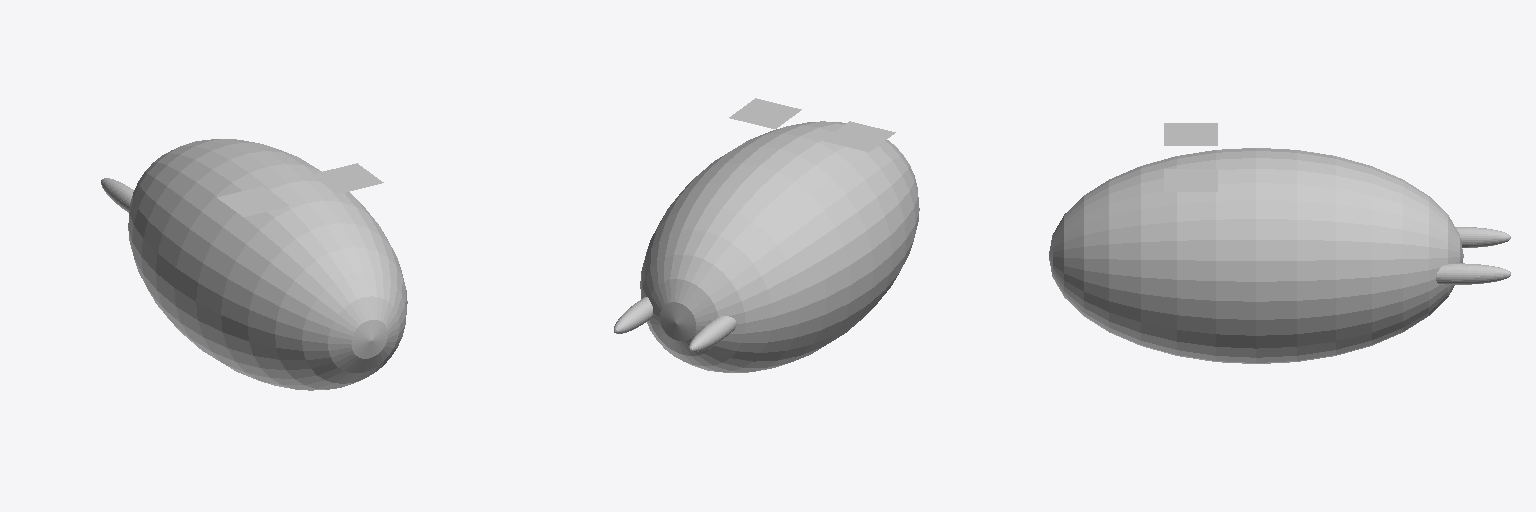
The model's file is unit.obj.
3 views of the same model, side by side, from view 1: azimuth 30°, elevation 25°; view 2: azimuth 150°, elevation 25°; view 3: azimuth 270°, elevation 25° (orthographic).
Visible parts, largest first — view 1: Unit_Sphere; view 2: Unit_Sphere; view 3: Unit_Sphere.
Boxes of the visible parts, x1=… form: Unit_Sphere: x1=101, y1=139, x2=407, y2=390; Unit_Sphere: x1=614, y1=98, x2=919, y2=372; Unit_Sphere: x1=1049, y1=123, x2=1510, y2=363.
Size of the model in its own units: 0.2 by 0.2 by 0.4272.